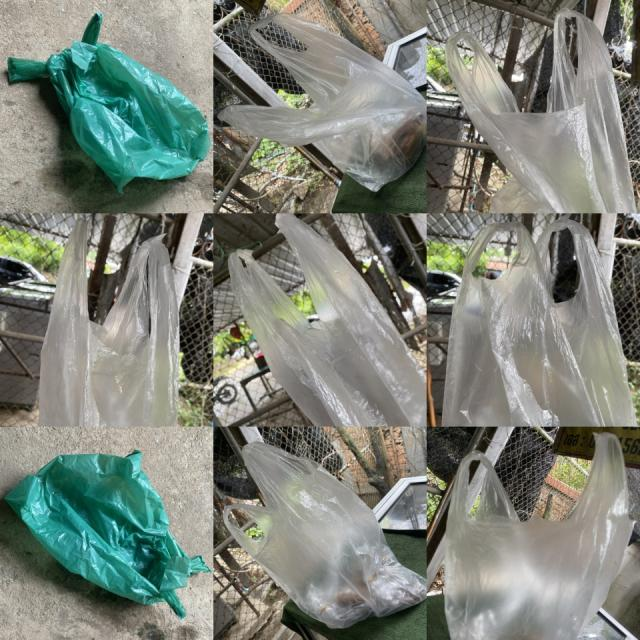Single-layer Plastic: (228, 215, 426, 426), (442, 216, 636, 426), (445, 9, 635, 213), (445, 432, 632, 639), (224, 442, 426, 628), (220, 12, 426, 191), (8, 12, 210, 192), (5, 450, 210, 618), (40, 220, 179, 426)
